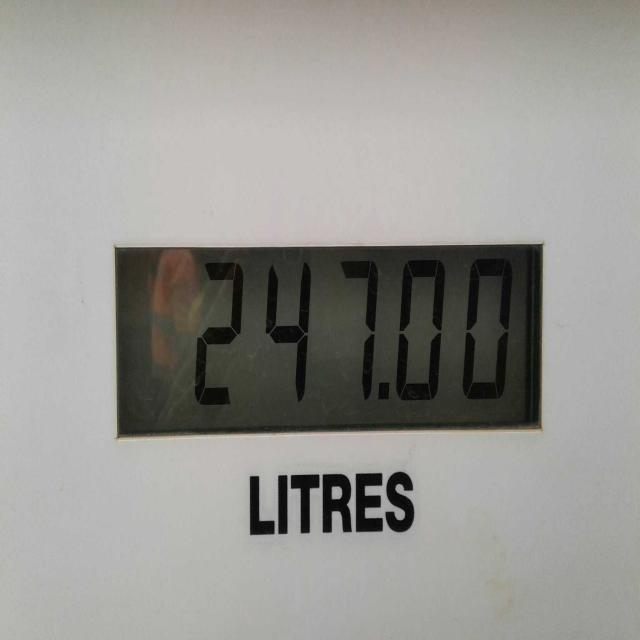.: (378, 385, 389, 400)
0: (394, 258, 444, 398), (464, 256, 510, 399)
2: (196, 263, 240, 404)
4: (268, 261, 308, 408)
7: (337, 254, 374, 404)
